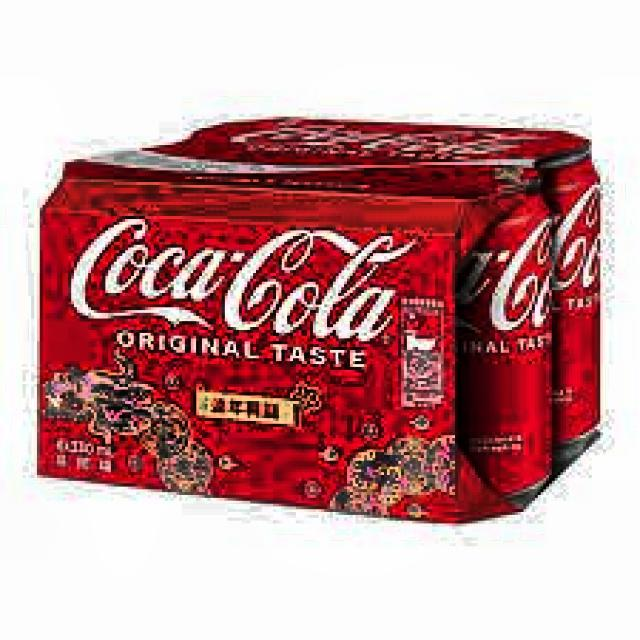can: (448, 173, 556, 511), (535, 138, 602, 460)
